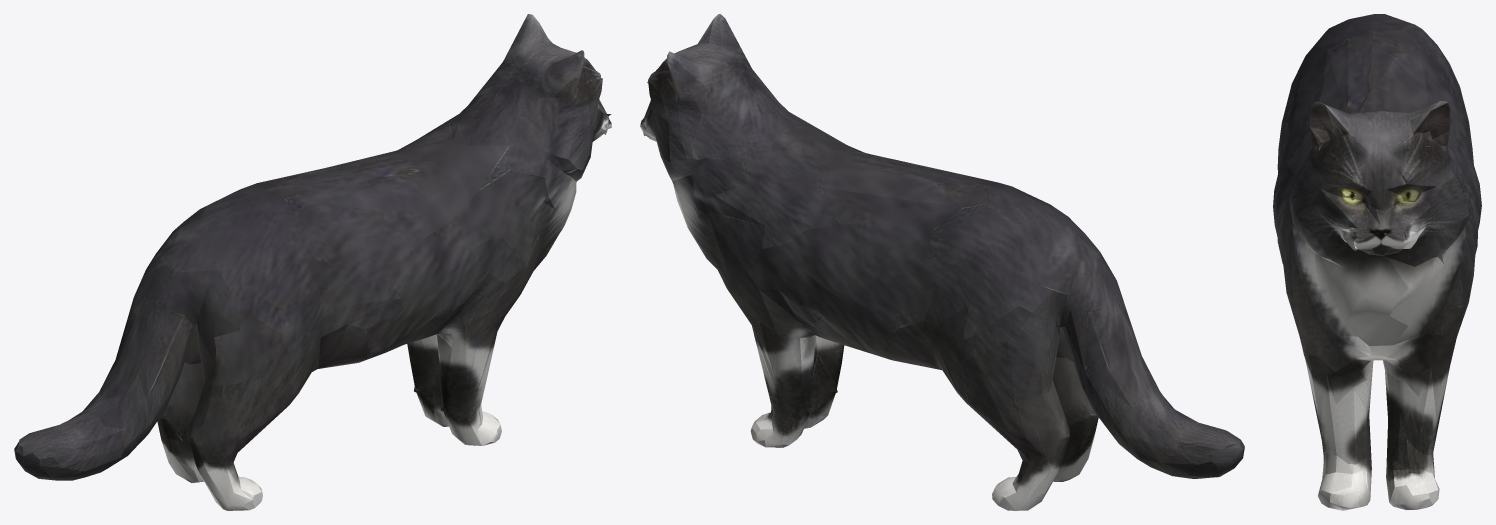
Rendered from MUSTACHCAT-lo.glb.
3 renders of one model, left to right at view 1: azimuth 30°, elevation 25°; view 2: azimuth 150°, elevation 25°; view 3: azimuth 270°, elevation 25°, orthographic. The views are drawn at different scales.
Visible parts, largest first — view 1: output_unwrapped; view 2: output_unwrapped; view 3: output_unwrapped.
Part boxes in pixels (<box>): output_unwrapped: <box>14,14,611,510</box>; output_unwrapped: <box>640,14,1244,510</box>; output_unwrapped: <box>1273,14,1481,510</box>.
Size of the model in its own units: 1.65 by 1 by 0.4163.
1 material, 1 textured.
